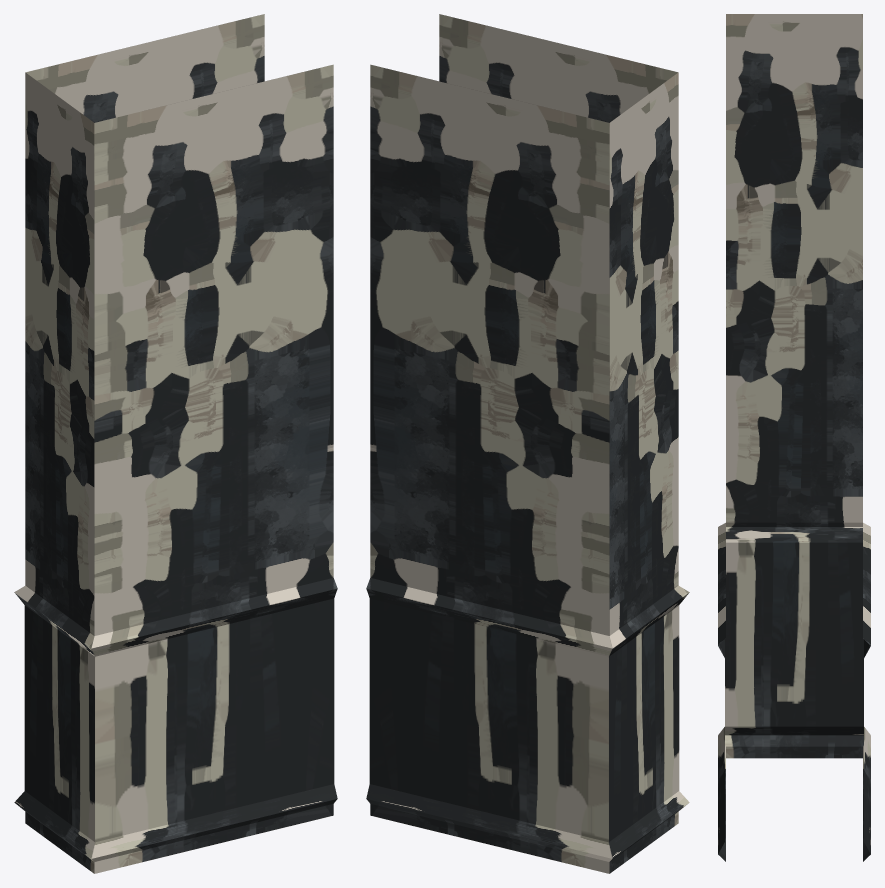
File: kitchen_wall_1.fbx
3 renders of one model, left to right at view 1: azimuth 30°, elevation 25°; view 2: azimuth 150°, elevation 25°; view 3: azimuth 270°, elevation 25°, orthographic.
Visible parts, largest first — view 1: kitchen wall 1; view 2: kitchen wall 1; view 3: kitchen wall 1.
Boxes of the visible parts, x1=… form: kitchen wall 1: x1=14, y1=14, x2=337, y2=873; kitchen wall 1: x1=366, y1=14, x2=689, y2=873; kitchen wall 1: x1=718, y1=14, x2=870, y2=861.
Size of the model in its own units: 206 by 600 by 112.
